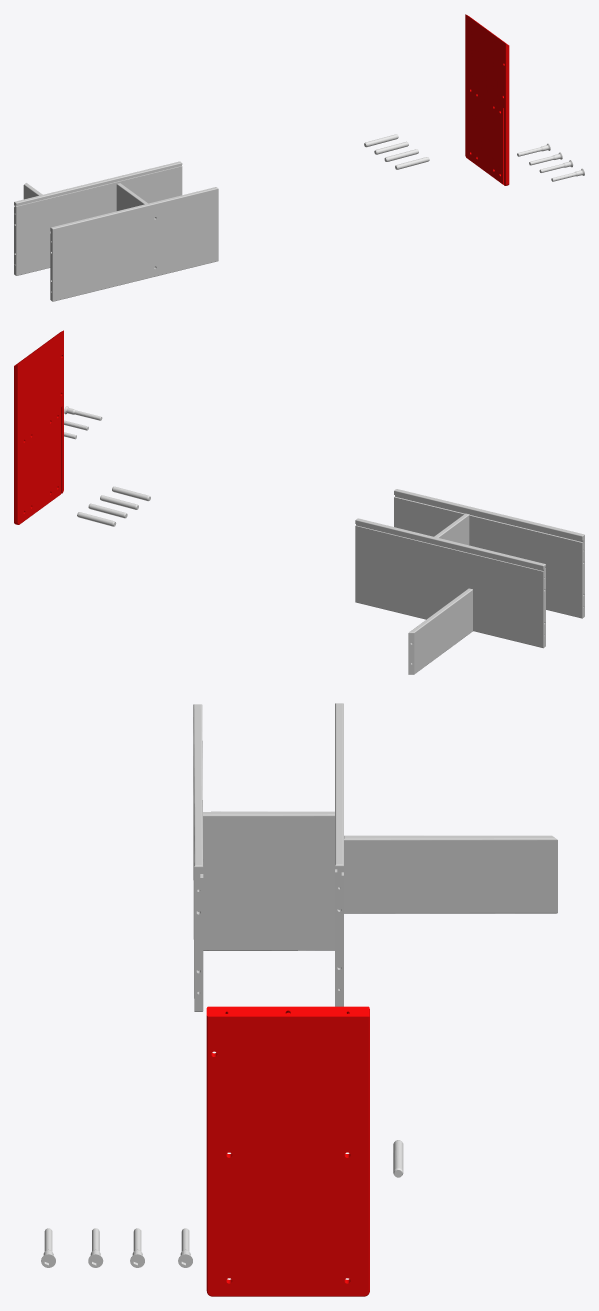
The model's file is step2.glb.
3 views of the same model, one above another, from view 1: azimuth 30°, elevation 25°; view 2: azimuth 150°, elevation 25°; view 3: azimuth 270°, elevation 25° (orthographic). The views are drawn at different scales.
Visible parts, largest first — view 1: 4, 2; view 2: 4, 2; view 3: 2, 4.
Part boxes in pixels (left/top/right/bottom): 4: left=14, top=161, right=218, bottom=301; 2: left=465, top=14, right=509, bottom=185; 4: left=355, top=489, right=584, bottom=674; 2: left=14, top=330, right=63, bottom=524; 2: left=206, top=1006, right=369, bottom=1296; 4: left=193, top=703, right=557, bottom=1011.
Bounding box in the file's own units: 9.17 × 2.56 × 4.14.
